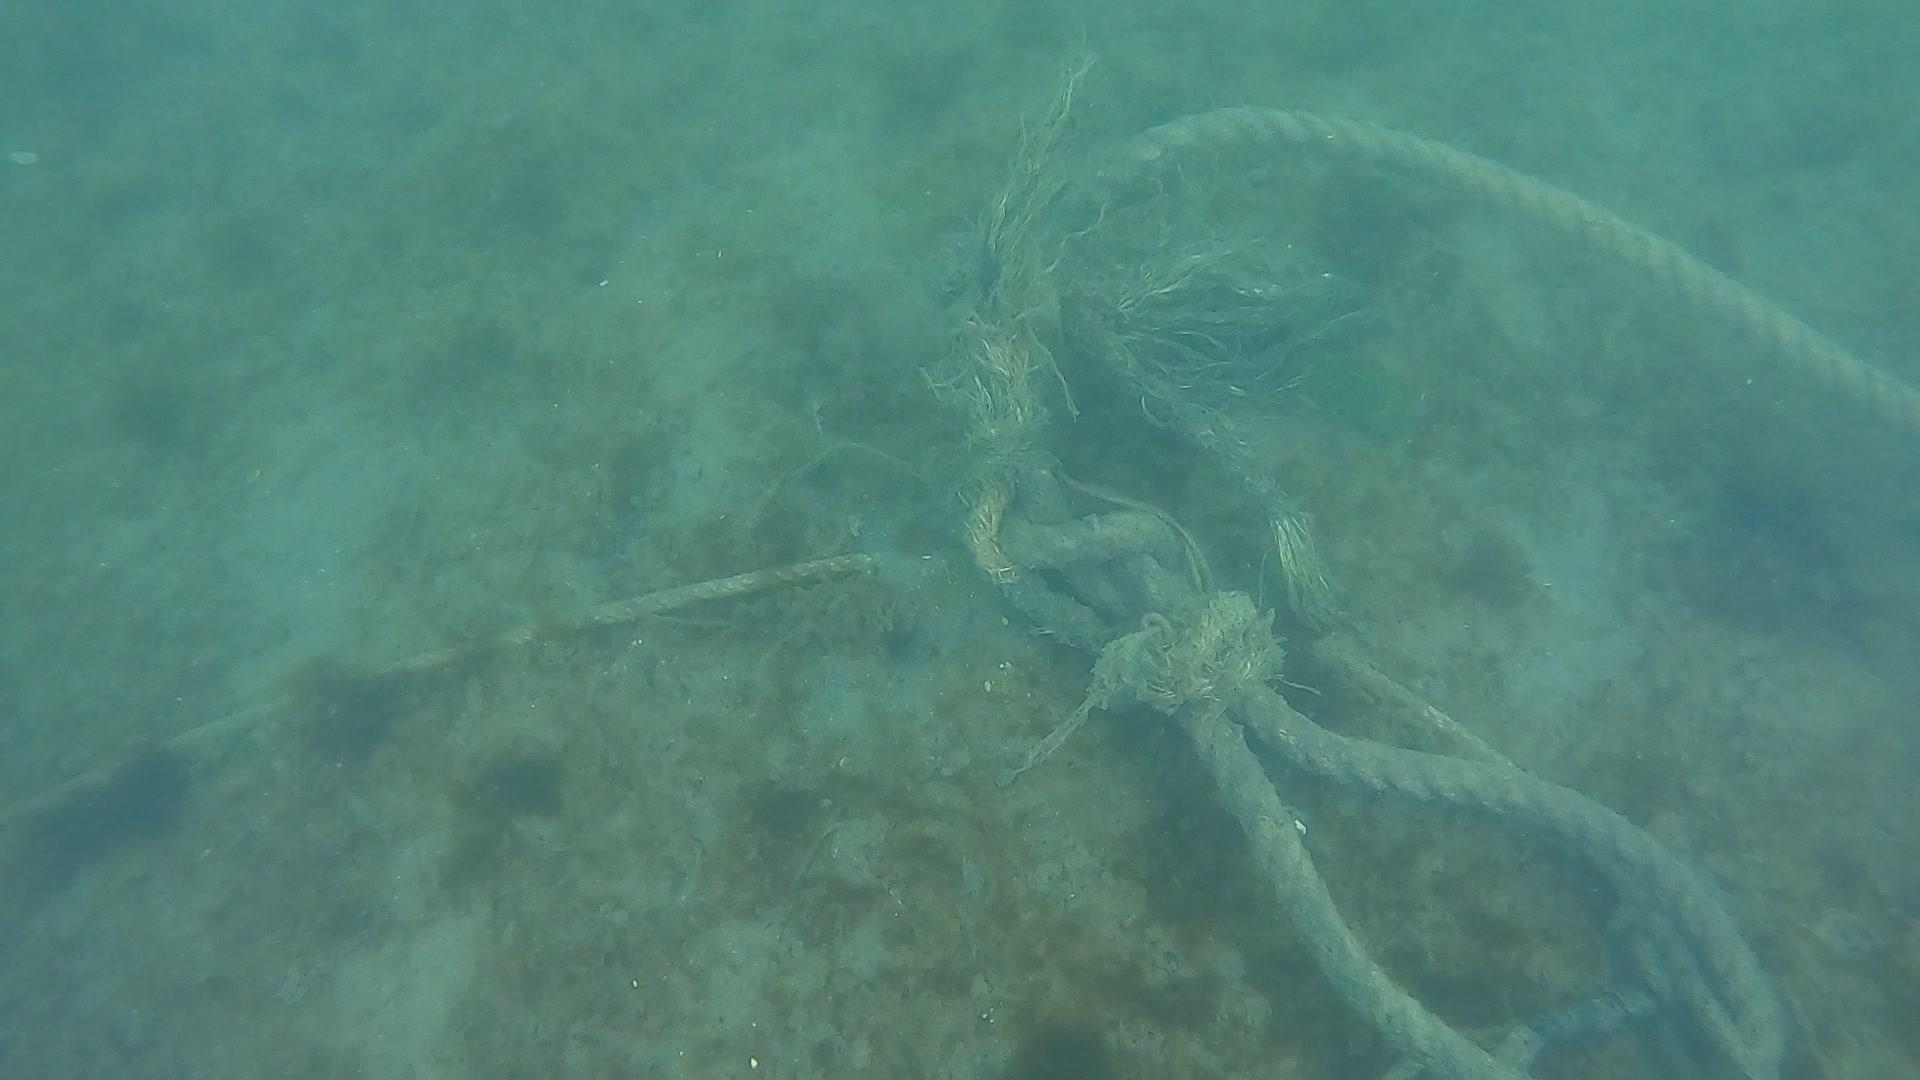bundle of ropes: (953, 102, 1920, 1080)
